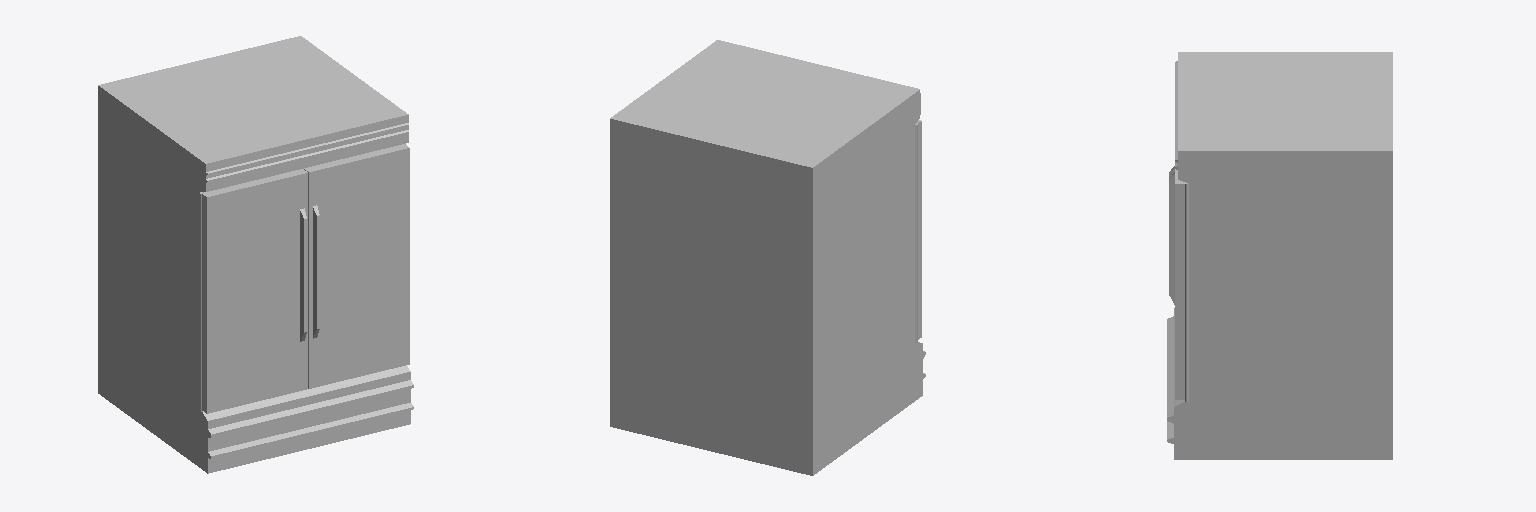
File: Kitchen_freezer.obj
3 views of the same model, side by side, from view 1: azimuth 30°, elevation 25°; view 2: azimuth 150°, elevation 25°; view 3: azimuth 270°, elevation 25° (orthographic).
Parts seen in each view (by area): view 1: pCube8; view 2: pCube8; view 3: pCube8.
Part boxes in pixels (left/top/right/bottom): pCube8: left=98, top=36, right=413, bottom=473; pCube8: left=610, top=40, right=925, bottom=475; pCube8: left=1167, top=52, right=1392, bottom=459.
Bounding box in the file's own units: 2.8 × 4.02 × 2.67.